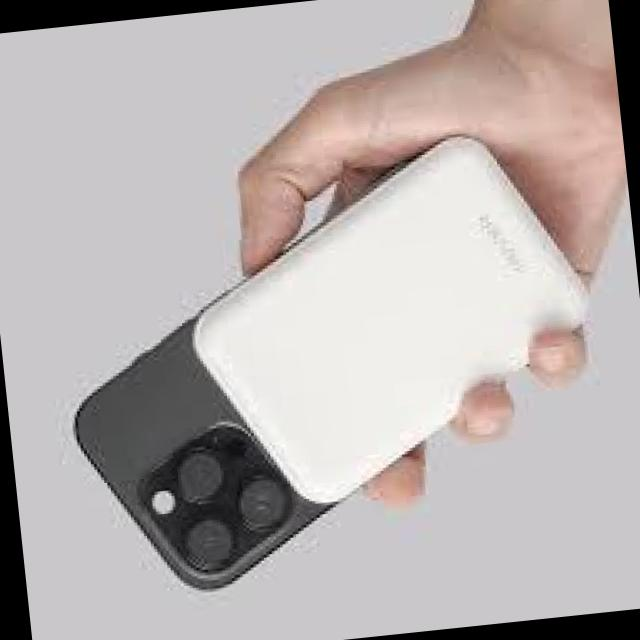power_bank: (169, 118, 606, 518)
